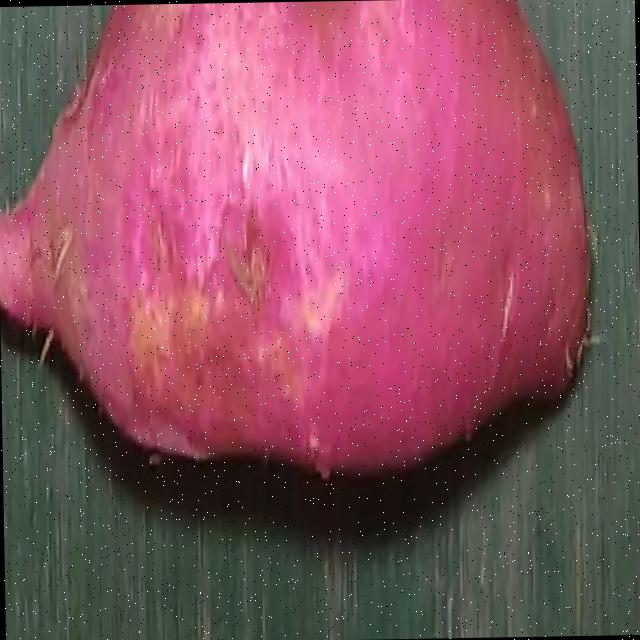Sweet Potato: (19, 0, 593, 476)
